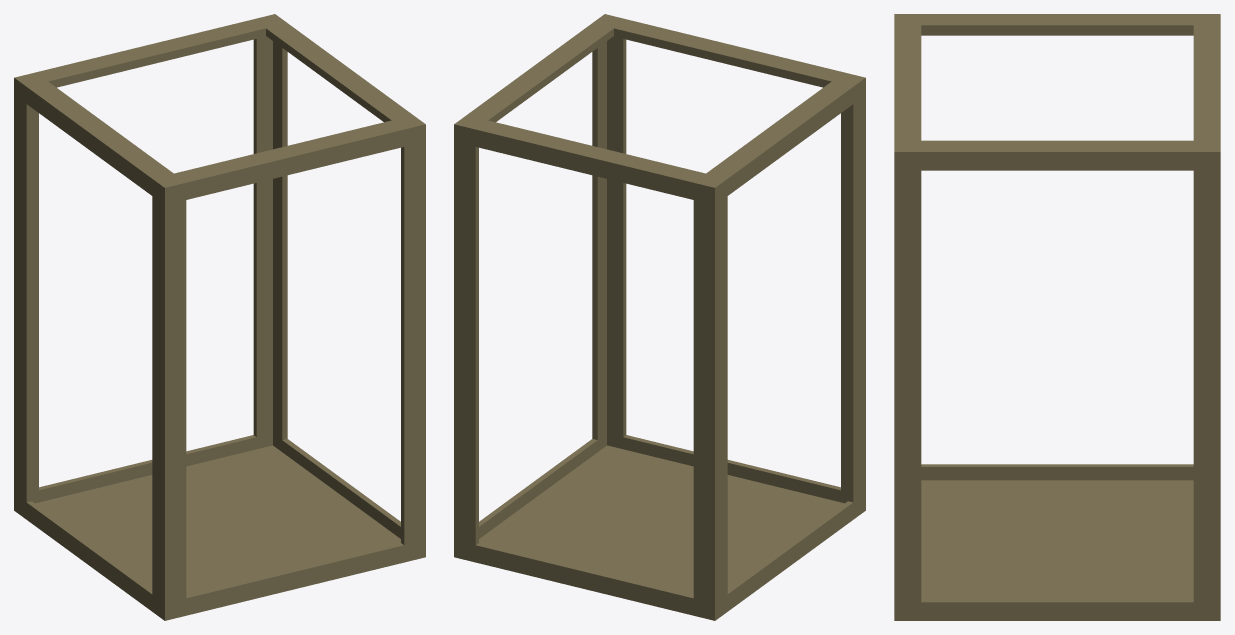
The model's file is packFrame.fbx.
3 views of the same model, side by side, from view 1: azimuth 30°, elevation 25°; view 2: azimuth 150°, elevation 25°; view 3: azimuth 270°, elevation 25° (orthographic). The views are drawn at different scales.
Visible parts, largest first — view 1: bottom, brace03, brace01, brace02, brace04, topBrace04, topBrace03, topBrace01, topBrace02; view 2: bottom, brace04, brace02, brace01, brace03, topBrace02, topBrace03, topBrace01, topBrace04; view 3: bottom, brace01, brace02, topBrace01, topBrace03, topBrace02, topBrace04.
Part boxes in pixels (x1,y1,x2,y2): bottom: (14,433,425,620); brace03: (152,196,186,603); brace01: (253,36,287,439); brace02: (401,141,425,545); brace04: (14,95,38,502); topBrace04: (174,120,404,199); topBrace03: (14,72,186,204); topBrace01: (254,14,425,146); topBrace02: (36,19,265,87); bottom: (454,433,865,620); brace04: (693,196,727,603); brace02: (592,36,626,439); brace01: (454,141,478,545); brace03: (841,95,865,502); topBrace02: (475,120,705,199); topBrace03: (693,72,865,204); topBrace01: (454,14,625,146); topBrace04: (614,19,843,87); bottom: (894,464,1220,620); brace01: (1193,170,1220,602); brace02: (894,170,921,602); topBrace01: (894,140,1220,170); topBrace03: (894,14,1220,35); topBrace02: (1193,25,1220,140); topBrace04: (894,25,921,140).
Bounding box in the file's own units: 48.31 × 76.59 × 48.31.
